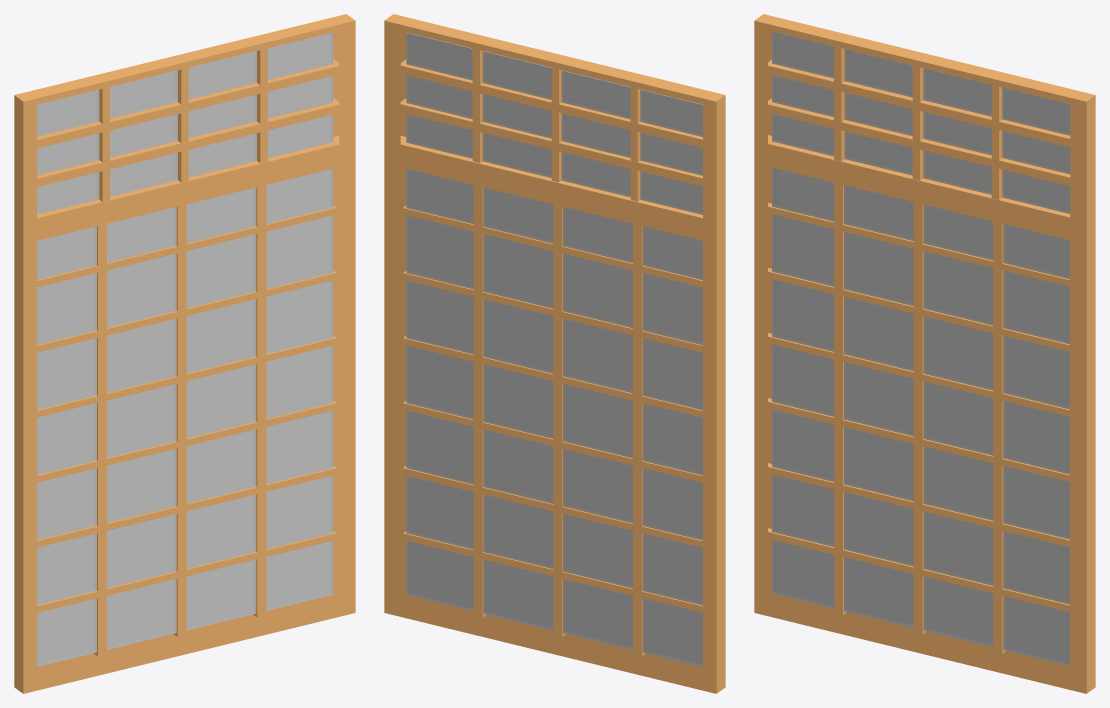
File: wall4.fbx
3 renders of one model, left to right at view 1: azimuth 30°, elevation 25°; view 2: azimuth 150°, elevation 25°; view 3: azimuth 330°, elevation 25°, orthographic.
Visible parts, largest first — view 1: Cube.013, Cube.012, Group_142.000, Cube.015, Cube.014, Cube.019, Cube.020, Cube.018, Cube.017, Cube.016; view 2: Cube.013, Cube.012, Group_142.000, Cube.015, Cube.014, Cube.020, Cube.019, Cube.017, Cube.016, Cube.018; view 3: Cube.013, Cube.012, Group_142.000, Cube.015, Cube.014, Cube.019, Cube.020, Cube.018, Cube.016, Cube.017.
Part boxes in pixels (x1,y1,x2,y2): Cube.013: (37,168,333,666); Cube.012: (14,135,355,693); Group_142.000: (37,185,336,656); Cube.015: (37,32,333,214); Cube.014: (14,14,355,221); Cube.019: (37,59,339,148); Cube.020: (37,98,339,186); Cube.018: (257,48,267,163); Cube.017: (99,87,109,201); Cube.016: (178,68,188,182); Cube.013: (406,168,702,667); Cube.012: (384,135,725,693); Group_142.000: (403,185,702,656); Cube.015: (406,32,702,214); Cube.014: (384,14,725,232); Cube.020: (400,98,702,186); Cube.019: (400,59,702,147); Cube.017: (630,87,640,201); Cube.016: (551,68,561,182); Cube.018: (472,48,482,162); Cube.013: (772,167,1069,666); Cube.012: (754,135,1095,693); Group_142.000: (768,182,1069,654); Cube.015: (772,31,1070,213); Cube.014: (754,14,1095,231); Cube.019: (768,59,1070,147); Cube.020: (768,98,1070,185); Cube.018: (991,85,1002,199); Cube.016: (912,65,923,180); Cube.017: (834,46,844,161).
Bounding box in the file's own units: 269 × 459 × 12.84.
